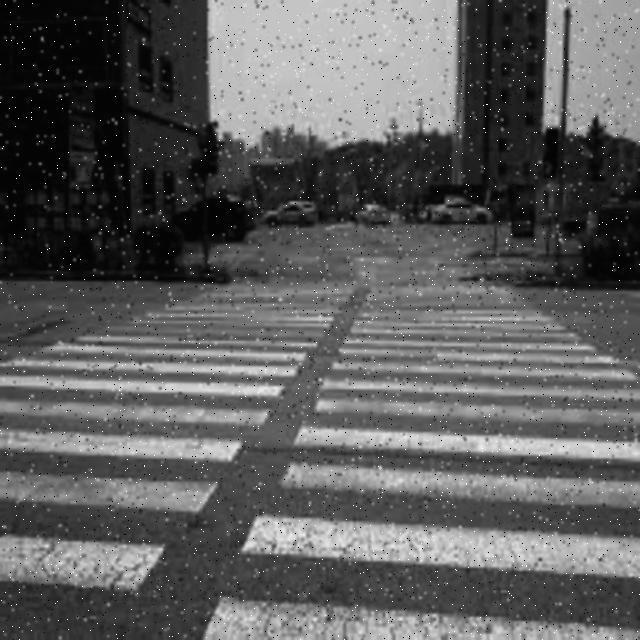Pedestrian crosswalk: (2, 283, 640, 637)
